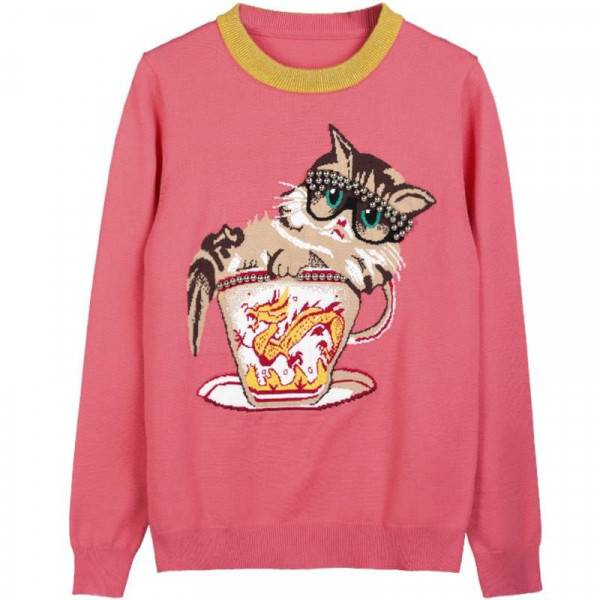cat: (263, 117, 438, 259)
